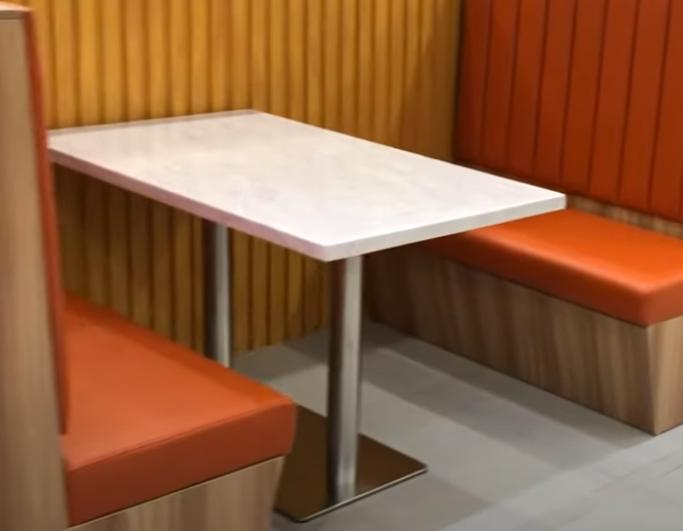Clean Table: (38, 73, 610, 322)
